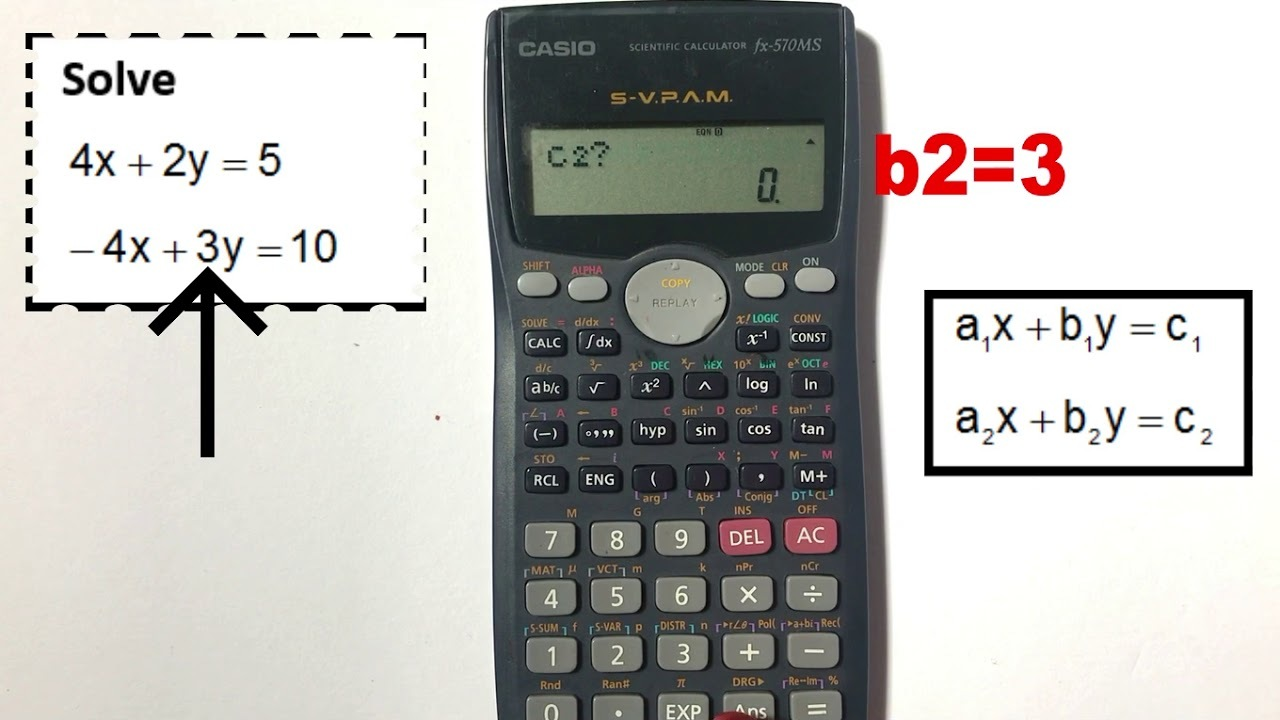Calculator: (480, 7, 877, 720)
